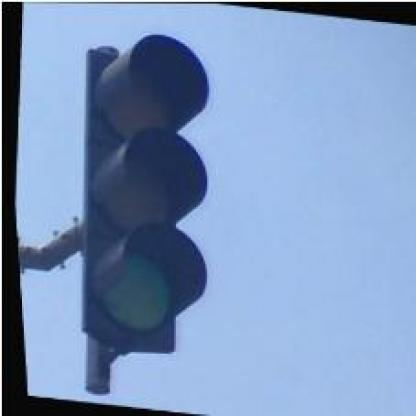green: (51, 25, 231, 356)
